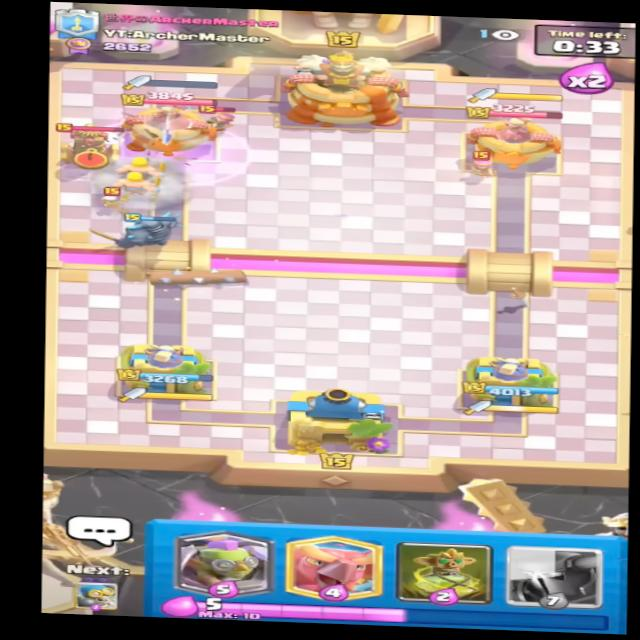archer: (194, 104, 234, 131), (459, 151, 498, 175)
log: (141, 266, 254, 288)
skeleton: (97, 186, 130, 212)
tesla: (49, 119, 131, 175)
